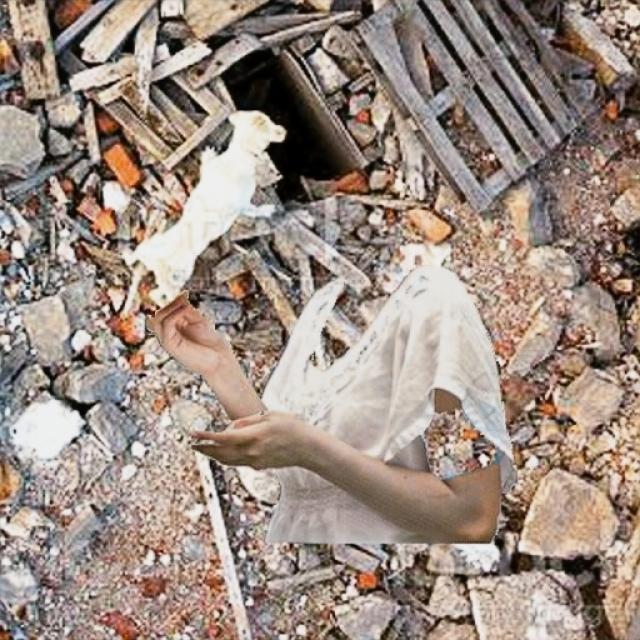Person in Rubble: (146, 265, 516, 543)
